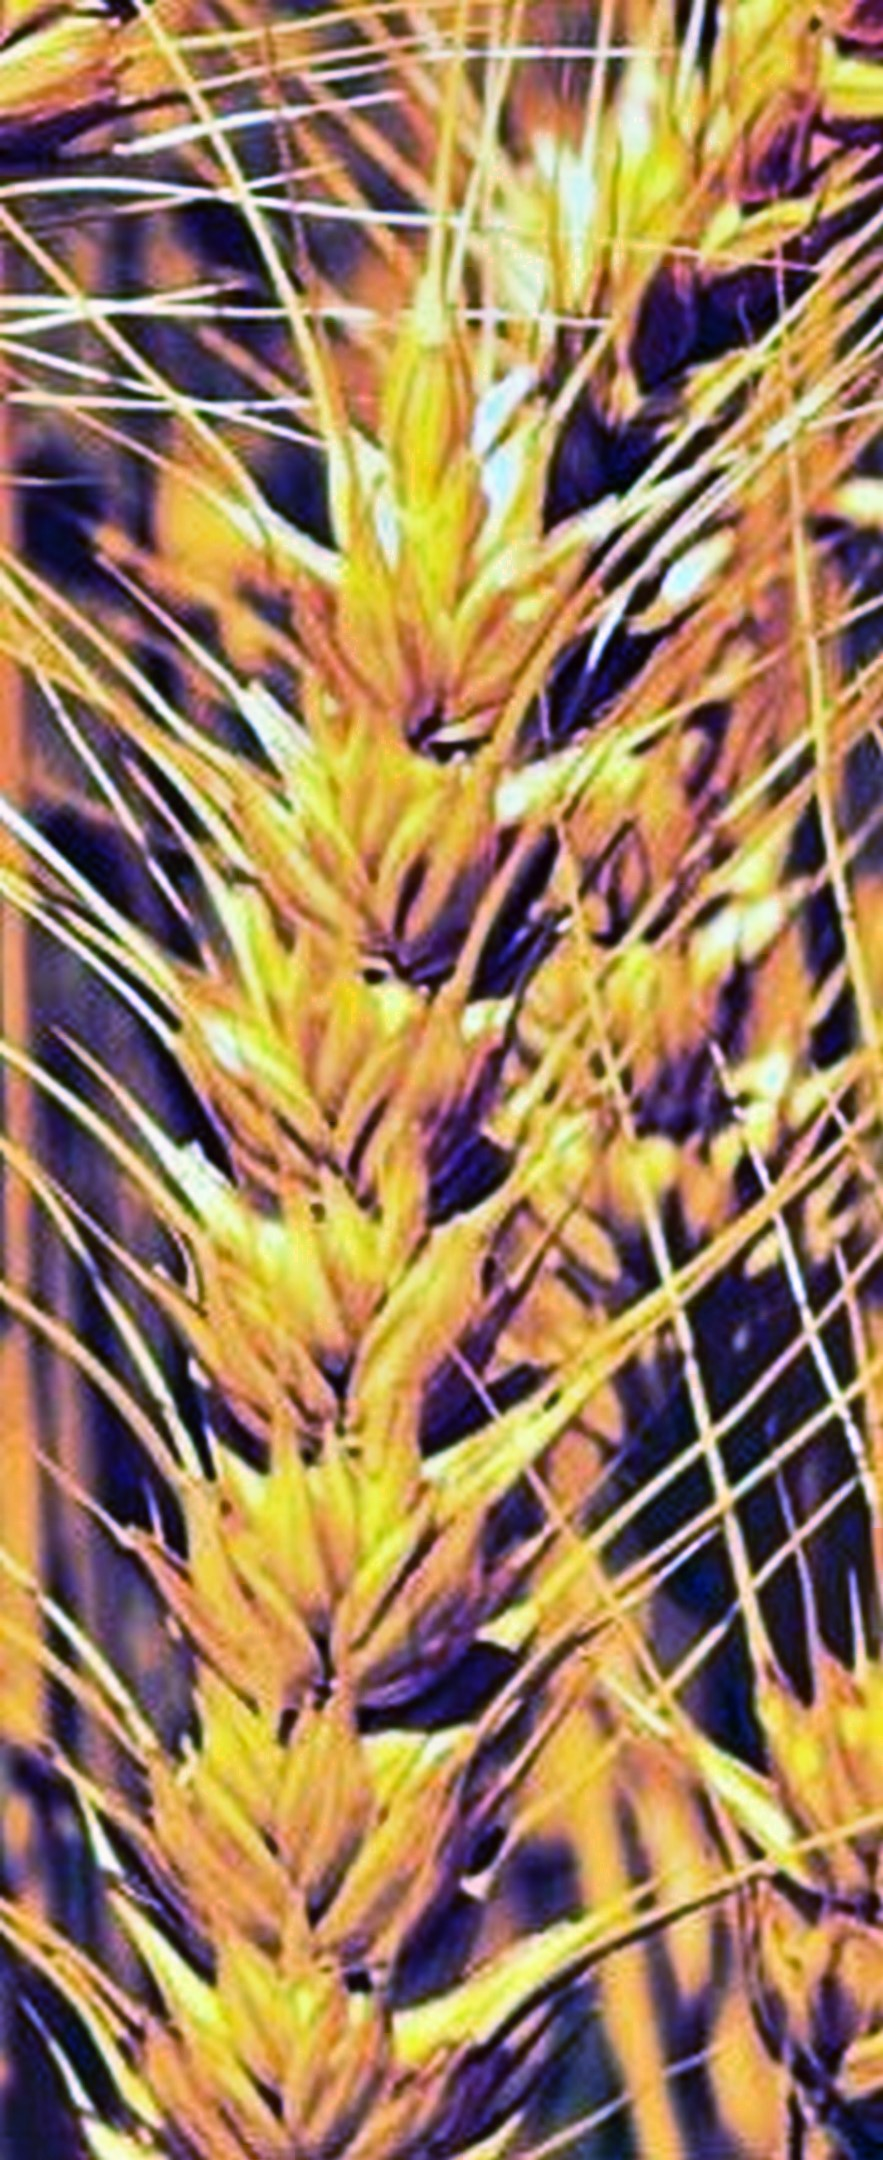Healthy Wheat: (152, 360, 528, 2160)
